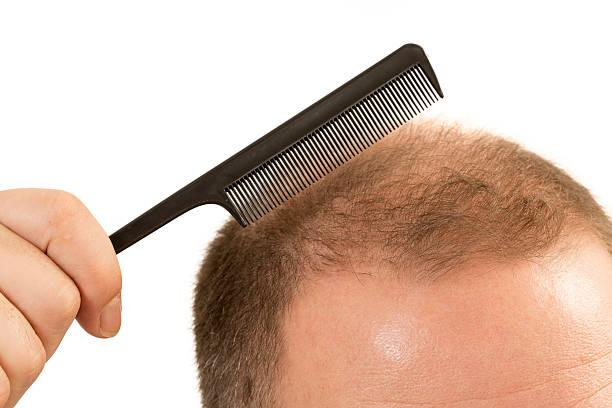low hair density: (351, 175, 474, 262)
